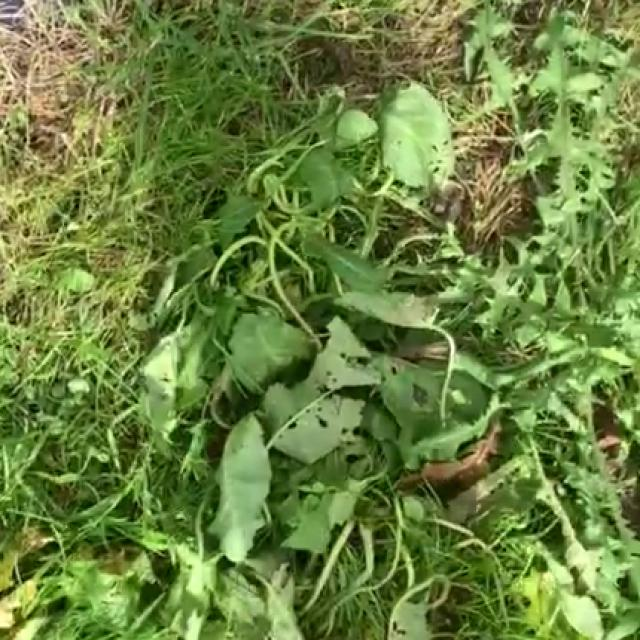organic waste: (56, 295, 640, 591), (115, 49, 503, 370)
